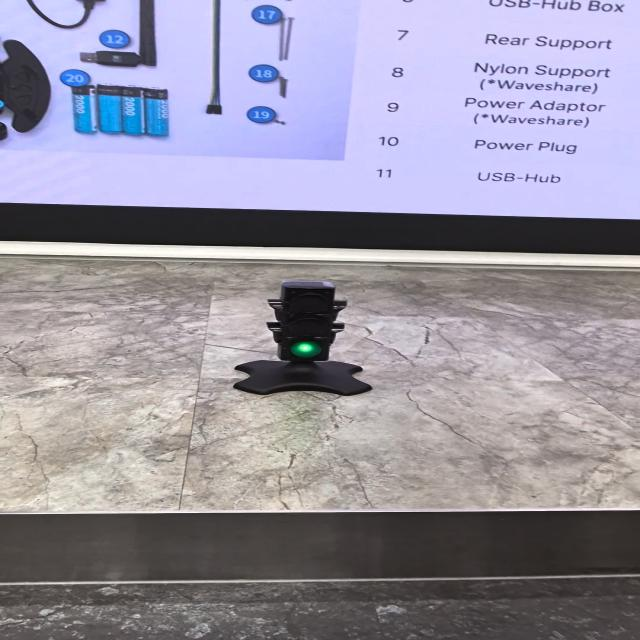green_light: (290, 342, 321, 358)
